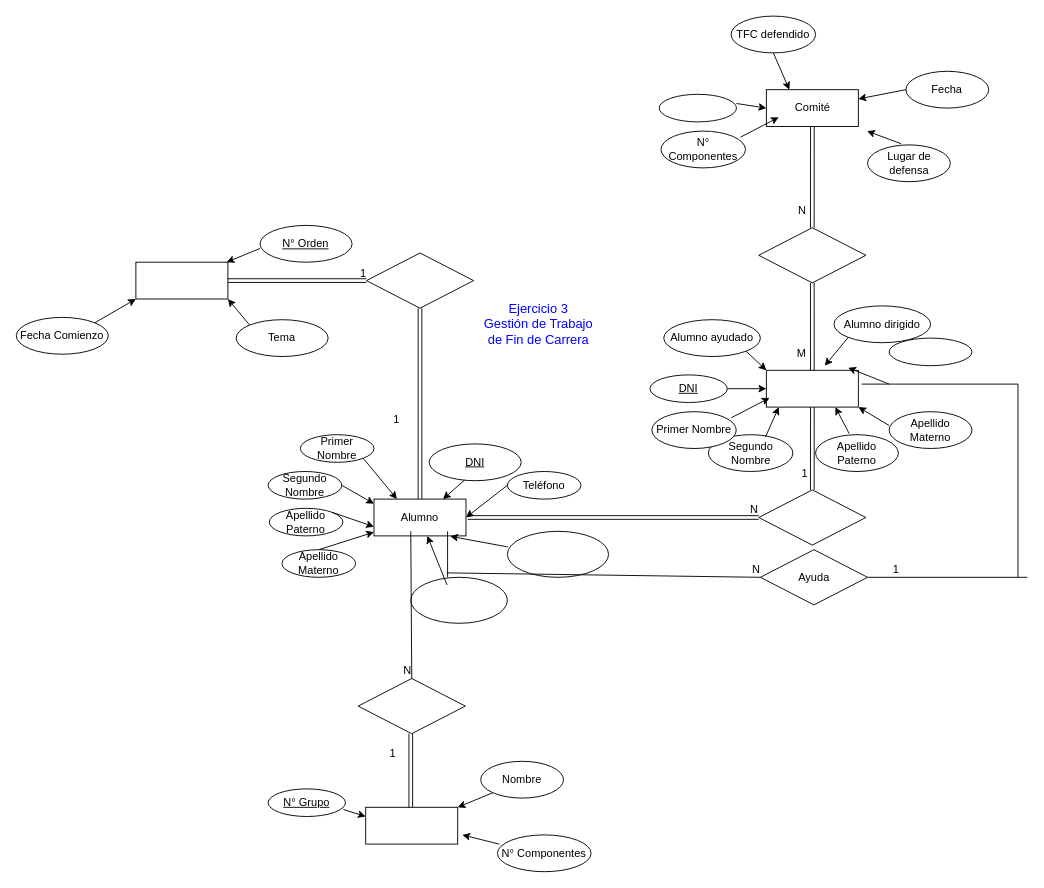
This 1044x888 diagram has some shape labels left out. Each missing label, with the box of its shape:
Dirige: (758, 489, 866, 545)
Domicilio: (888, 337, 972, 366)
Fecha Incorporación grupo: (410, 576, 507, 623)
Forma: (758, 227, 866, 283)
Grupo: (365, 806, 458, 844)
N° Matricula: (506, 530, 609, 577)
N° Tribunal: (658, 93, 736, 122)
Pertenece: (357, 678, 465, 734)
Profesor: (765, 369, 858, 407)
Realiza: (366, 252, 474, 308)
TFC: (135, 261, 228, 299)
